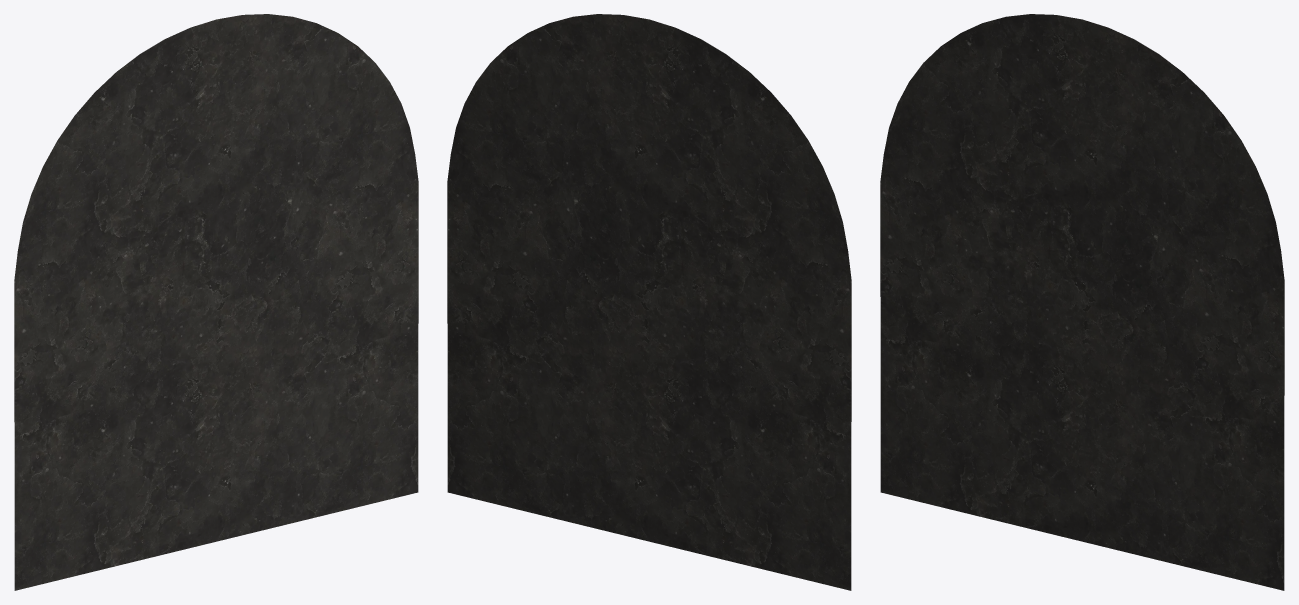
3 views of the same model, side by side, from view 1: azimuth 30°, elevation 25°; view 2: azimuth 150°, elevation 25°; view 3: azimuth 330°, elevation 25° (orthographic).
Parts seen in each view (by area): view 1: SM_Dowdun_Vaulted_Wall_12x12_01_LOD0; view 2: SM_Dowdun_Vaulted_Wall_12x12_01_LOD0; view 3: SM_Dowdun_Vaulted_Wall_12x12_01_LOD0.
Part boxes in pixels (left/top/right/bottom): SM_Dowdun_Vaulted_Wall_12x12_01_LOD0: left=14, top=14, right=418, bottom=590; SM_Dowdun_Vaulted_Wall_12x12_01_LOD0: left=447, top=14, right=851, bottom=590; SM_Dowdun_Vaulted_Wall_12x12_01_LOD0: left=880, top=14, right=1284, bottom=590.
Bounding box in the file's own units: 10.91 × 13.47 × 0.
1 material, 1 textured.
